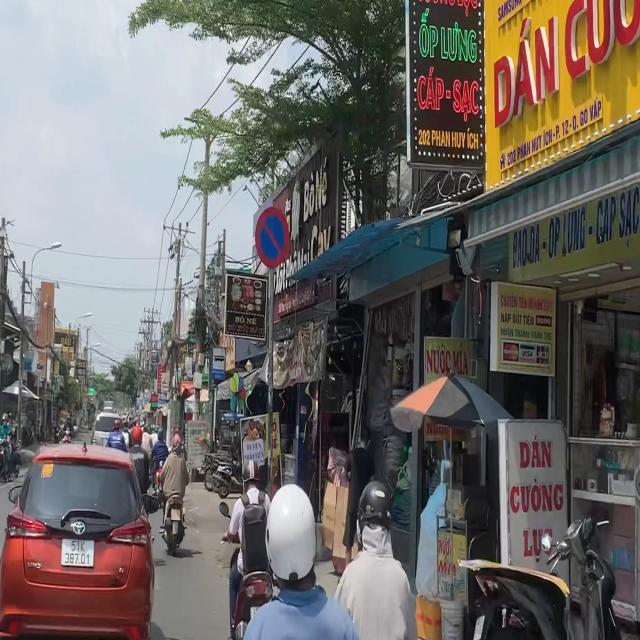Cam do: (254, 206, 290, 270)
